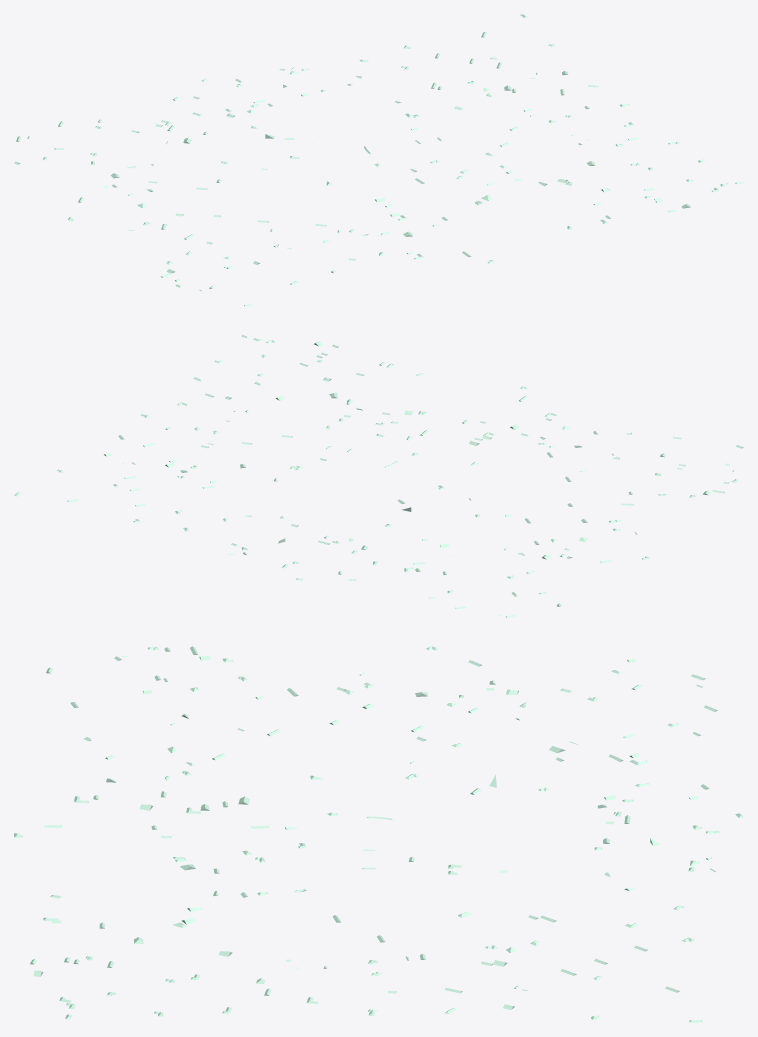
Rendered from FaitageZinc.obj.
3 views of the same model, one above another, from view 1: azimuth 30°, elevation 25°; view 2: azimuth 150°, elevation 25°; view 3: azimuth 270°, elevation 25° (orthographic). The views are drawn at different scales.
Parts seen in each view (by area): view 1: FaitageZinc; view 2: FaitageZinc; view 3: FaitageZinc.
Part boxes in pixels (bbox=[...]): FaitageZinc: bbox=[14, 14, 743, 306]; FaitageZinc: bbox=[14, 335, 743, 617]; FaitageZinc: bbox=[14, 646, 743, 1022].
Bounding box in the file's own units: 2500 × 76.07 × 2044.
